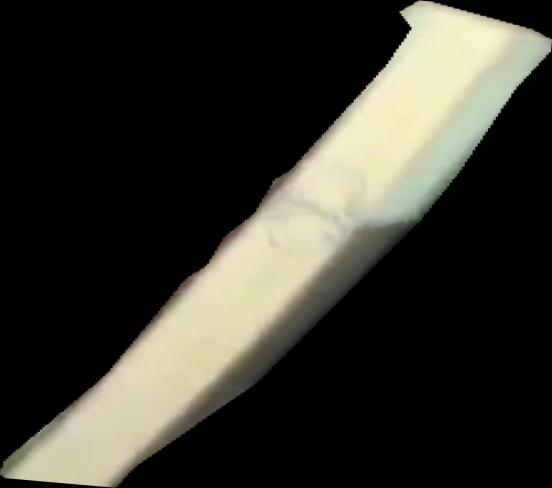backward: (1, 1, 552, 488)
